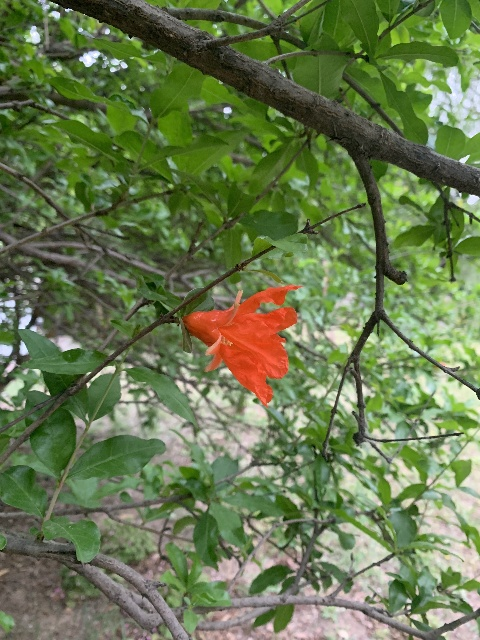flower: (181, 284, 300, 406)
